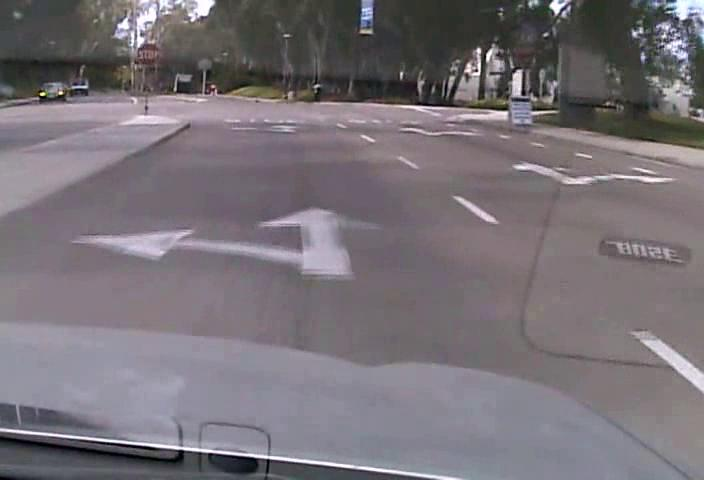stop: (135, 42, 161, 66)
